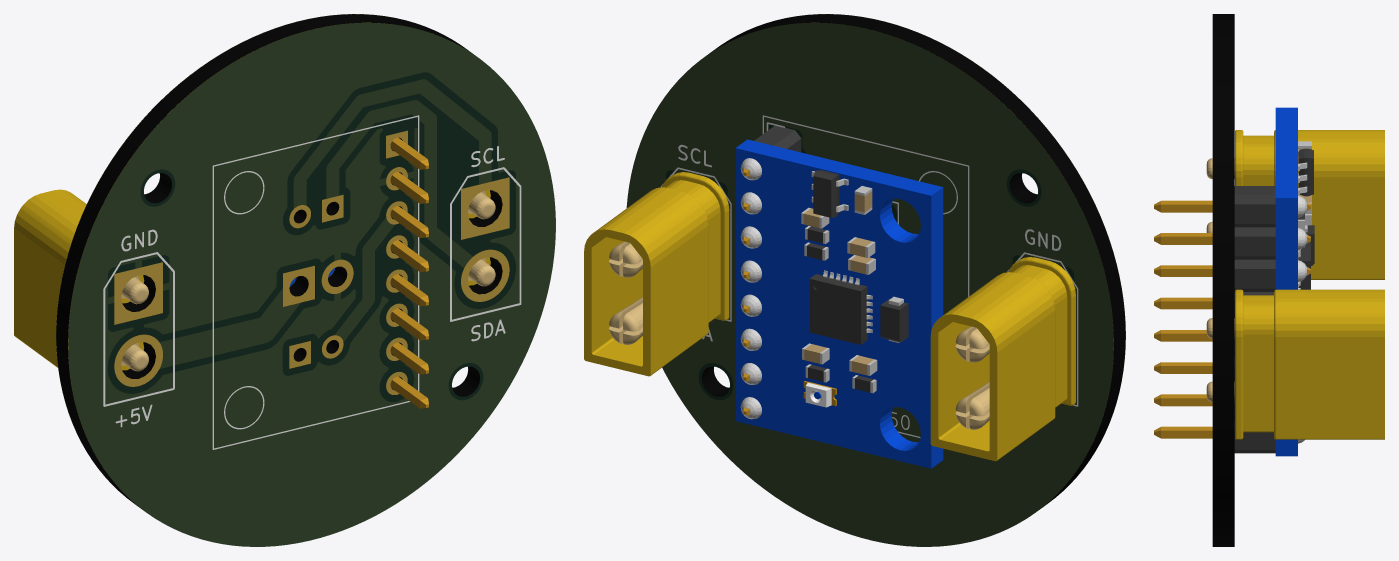
File: Helios_PCB_Female.obj
3 views of the same model, side by side, from view 1: azimuth 30°, elevation 25°; view 2: azimuth 150°, elevation 25°; view 3: azimuth 270°, elevation 25° (orthographic). The views are drawn at different scales.
Parts seen in each view (by area): view 1: SHAPE_1541_IndexedFaceSet, SHAPE_1540_IndexedFaceSet, SHAPE_1536_IndexedFaceSet, SHAPE_1537_IndexedFaceSet, SHAPE_1543_IndexedFaceSet, SHAPE_54_IndexedFaceSet, SHAPE_52_IndexedFaceSet, SHAPE_48_IndexedFaceSet; view 2: SHAPE_1539_IndexedFaceSet, SHAPE_1538_IndexedFaceSet, SHAPE_170_IndexedFaceSet, SHAPE_1537_IndexedFaceSet, SHAPE_54_IndexedFaceSet.001, SHAPE_54_IndexedFaceSet, SHAPE_61_IndexedFaceSet.001, SHAPE_61_IndexedFaceSet, SHAPE_45_IndexedFaceSet, SHAPE_45_IndexedFaceSet.001, SHAPE_940_IndexedFaceSet, SHAPE_1542_IndexedFaceSet (+18 smaller); view 3: SHAPE_1537_IndexedFaceSet, SHAPE_53_IndexedFaceSet.001, SHAPE_53_IndexedFaceSet, SHAPE_114_IndexedFaceSet.001, SHAPE_159_IndexedFaceSet, SHAPE_156_IndexedFaceSet, SHAPE_51_IndexedFaceSet.001, SHAPE_47_IndexedFaceSet.001, SHAPE_51_IndexedFaceSet, SHAPE_47_IndexedFaceSet, SHAPE_1350_IndexedFaceSet, SHAPE_1345_IndexedFaceSet (+28 smaller).
Boxes of the visible parts, x1,y1,x2,y2 form: SHAPE_1541_IndexedFaceSet: (68, 22, 555, 546); SHAPE_1540_IndexedFaceSet: (68, 22, 554, 546); SHAPE_1536_IndexedFaceSet: (68, 22, 515, 494); SHAPE_1537_IndexedFaceSet: (56, 14, 502, 509); SHAPE_1543_IndexedFaceSet: (103, 115, 521, 449); SHAPE_54_IndexedFaceSet: (14, 228, 64, 366); SHAPE_52_IndexedFaceSet: (14, 208, 70, 264); SHAPE_48_IndexedFaceSet: (24, 193, 78, 239); SHAPE_1539_IndexedFaceSet: (626, 22, 1113, 546); SHAPE_1538_IndexedFaceSet: (627, 22, 1113, 546); SHAPE_170_IndexedFaceSet: (735, 148, 931, 468); SHAPE_1537_IndexedFaceSet: (702, 14, 1125, 509); SHAPE_54_IndexedFaceSet.001: (650, 228, 704, 374); SHAPE_54_IndexedFaceSet: (997, 313, 1051, 459); SHAPE_61_IndexedFaceSet.001: (591, 237, 642, 351); SHAPE_61_IndexedFaceSet: (938, 322, 989, 436); SHAPE_45_IndexedFaceSet: (930, 314, 997, 461); SHAPE_45_IndexedFaceSet.001: (584, 229, 650, 376); SHAPE_940_IndexedFaceSet: (809, 279, 860, 344); SHAPE_1542_IndexedFaceSet: (660, 115, 1078, 437); SHAPE_1537_IndexedFaceSet: (1212, 14, 1234, 546); SHAPE_53_IndexedFaceSet.001: (1282, 337, 1384, 438); SHAPE_53_IndexedFaceSet: (1298, 177, 1384, 278); SHAPE_114_IndexedFaceSet.001: (1243, 334, 1273, 430); SHAPE_159_IndexedFaceSet: (1275, 198, 1297, 456); SHAPE_156_IndexedFaceSet: (1275, 107, 1297, 197); SHAPE_51_IndexedFaceSet.001: (1282, 317, 1384, 336); SHAPE_47_IndexedFaceSet.001: (1282, 298, 1384, 312); SHAPE_51_IndexedFaceSet: (1298, 157, 1384, 177); SHAPE_47_IndexedFaceSet: (1298, 138, 1384, 152); SHAPE_1350_IndexedFaceSet: (1234, 236, 1275, 256); SHAPE_1345_IndexedFaceSet: (1234, 204, 1275, 223).
Bounding box in the file's own units: 38 × 38 × 16.46.
